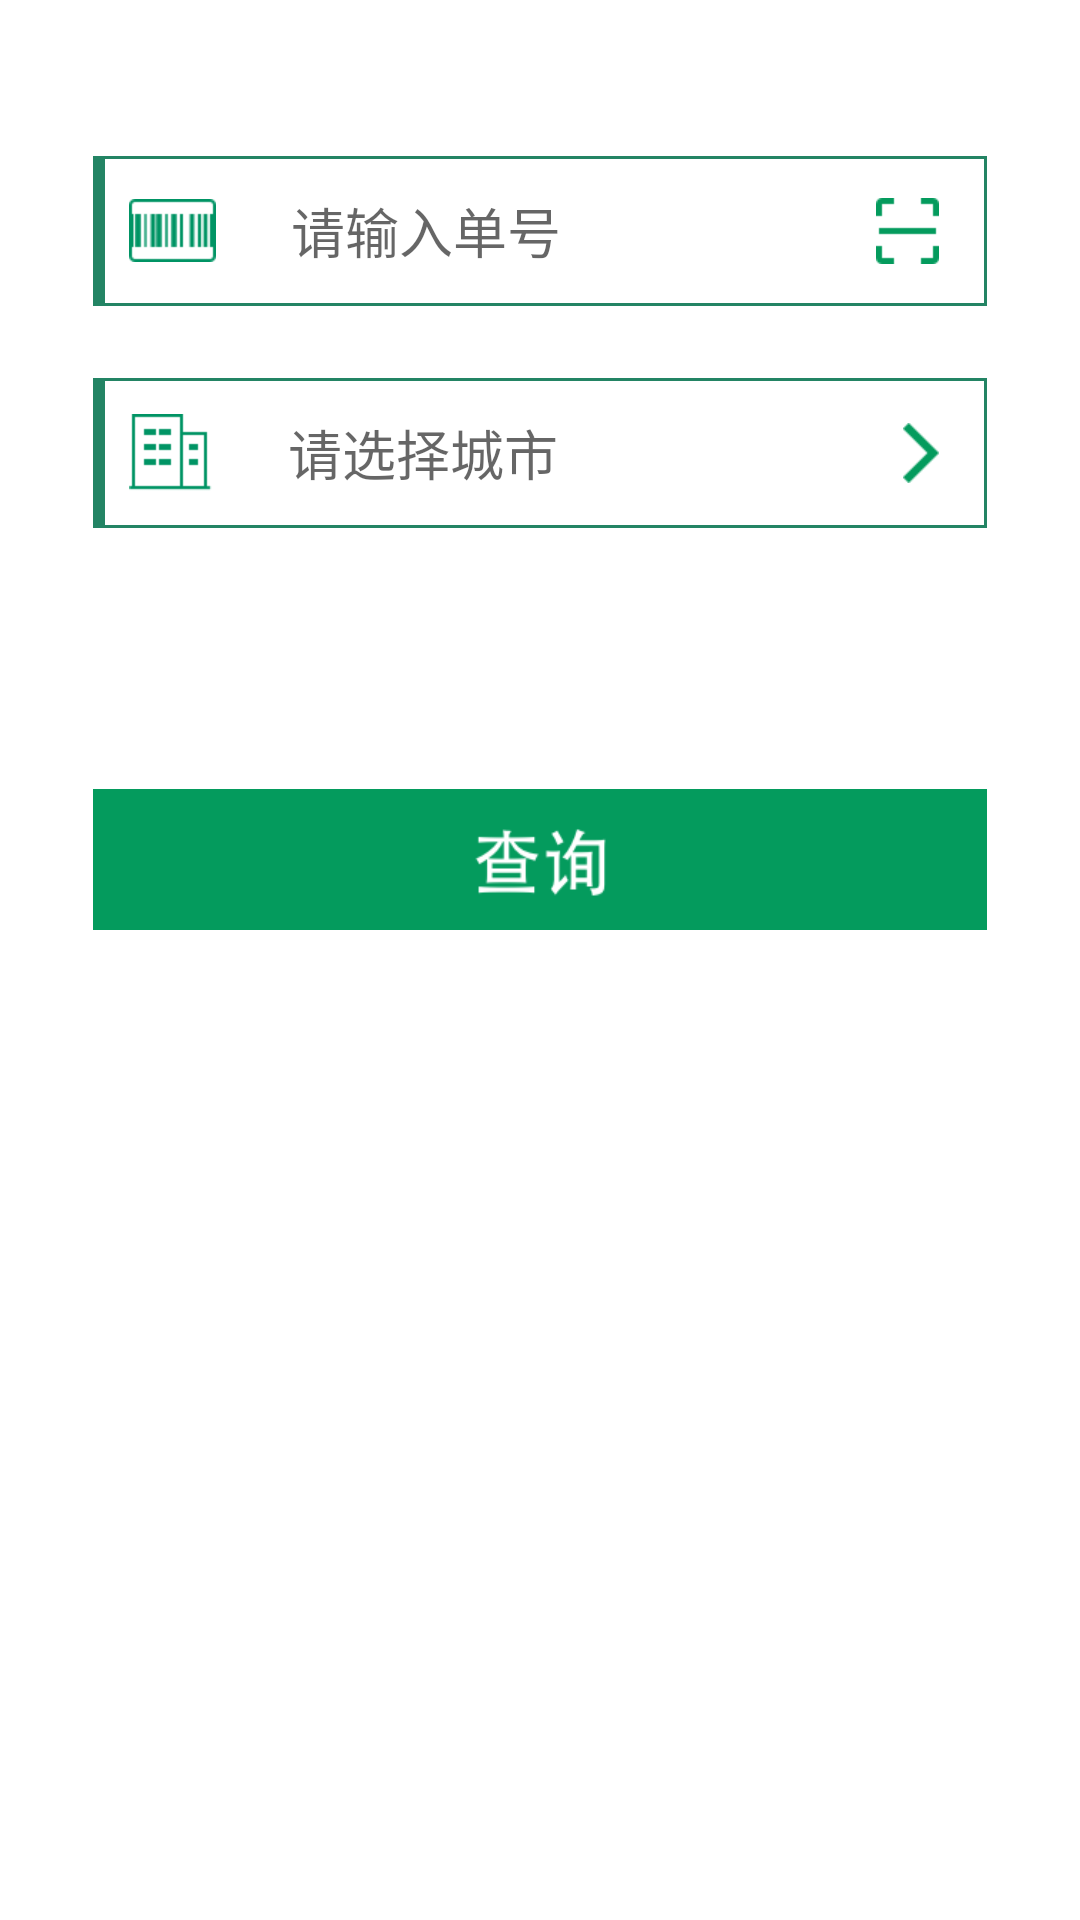

Named icons in this screenshot (1080 × 1920) and their bounding boxes, [x1, y1, x2, y2]:
code: [129, 199, 216, 262]
company: [129, 414, 211, 490]
sao: [876, 198, 939, 264]
xuanzhe: [903, 423, 939, 483]
